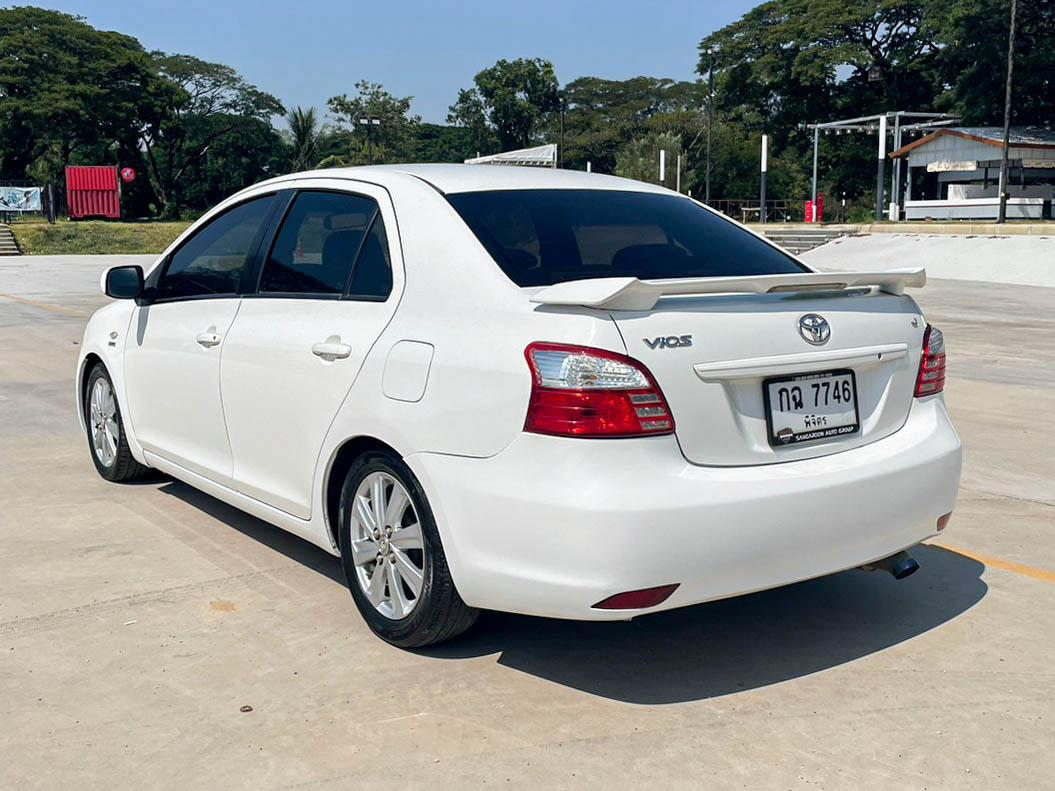license-plate: (758, 363, 867, 457)
